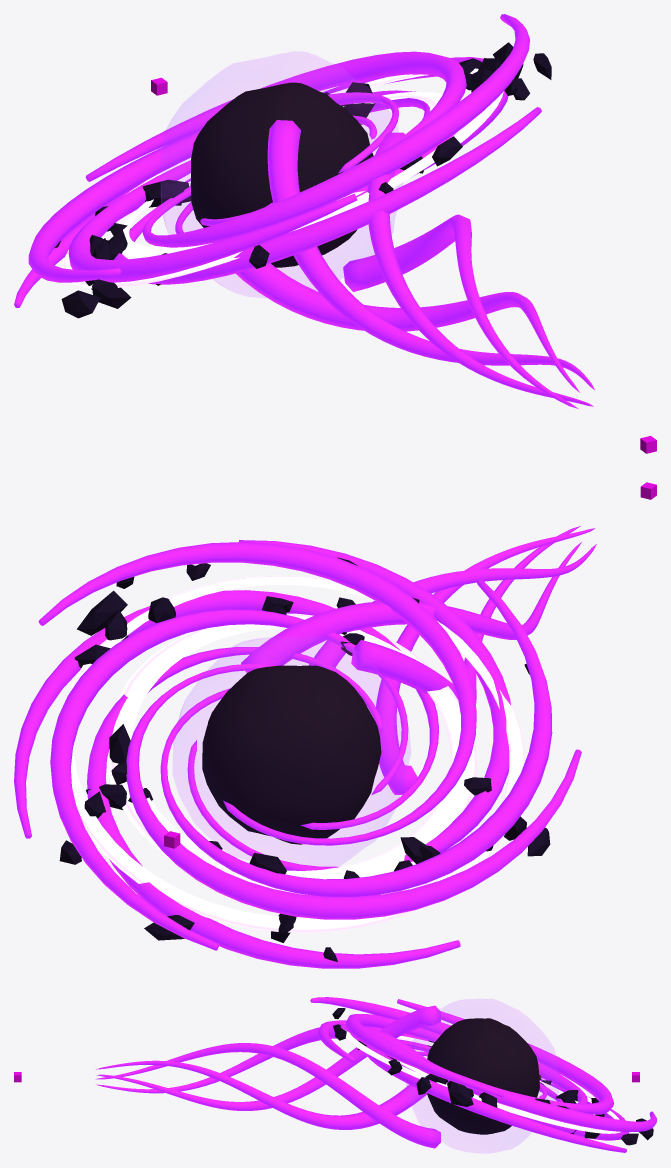
File: VoidBlast.fbx
3 views of the same model, one above another, from view 1: azimuth 30°, elevation 25°; view 2: azimuth 150°, elevation 25°; view 3: azimuth 270°, elevation 25° (orthographic). The views are drawn at different scales.
Visible parts, largest first — view 1: Tendrils, Core.004, Horizon, Debris, Rings; view 2: Tendrils, Core.004, Rings, Horizon, Debris; view 3: Tendrils, Core.004, Horizon, Debris, Rings.
Part boxes in pixels (left/top/right/bottom): Tendrils: left=14, top=14, right=594, bottom=408; Core.004: left=190, top=82, right=373, bottom=267; Horizon: left=161, top=52, right=402, bottom=297; Debris: left=55, top=42, right=551, bottom=318; Rings: left=61, top=68, right=503, bottom=288; Tendrils: left=14, top=526, right=596, bottom=968; Core.004: left=202, top=665, right=381, bottom=844; Rings: left=65, top=575, right=524, bottom=932; Horizon: left=173, top=637, right=410, bottom=865; Debris: left=59, top=557, right=550, bottom=961; Tendrils: left=95, top=997, right=656, bottom=1152; Core.004: left=427, top=1018, right=539, bottom=1134; Horizon: left=406, top=999, right=558, bottom=1153; Debris: left=332, top=1008, right=653, bottom=1145; Rings: left=343, top=1029, right=620, bottom=1133.
Bounding box in the file's own units: 4.59 × 2.21 × 8.32.
